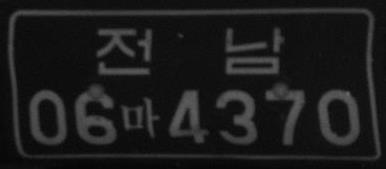0: (316, 88, 361, 146), (28, 88, 68, 146)
3: (214, 89, 258, 146)
4: (168, 89, 209, 144)
6: (73, 88, 117, 146)
7: (263, 89, 307, 147)
마: (120, 96, 159, 139)
전남_D: (96, 25, 286, 78)
